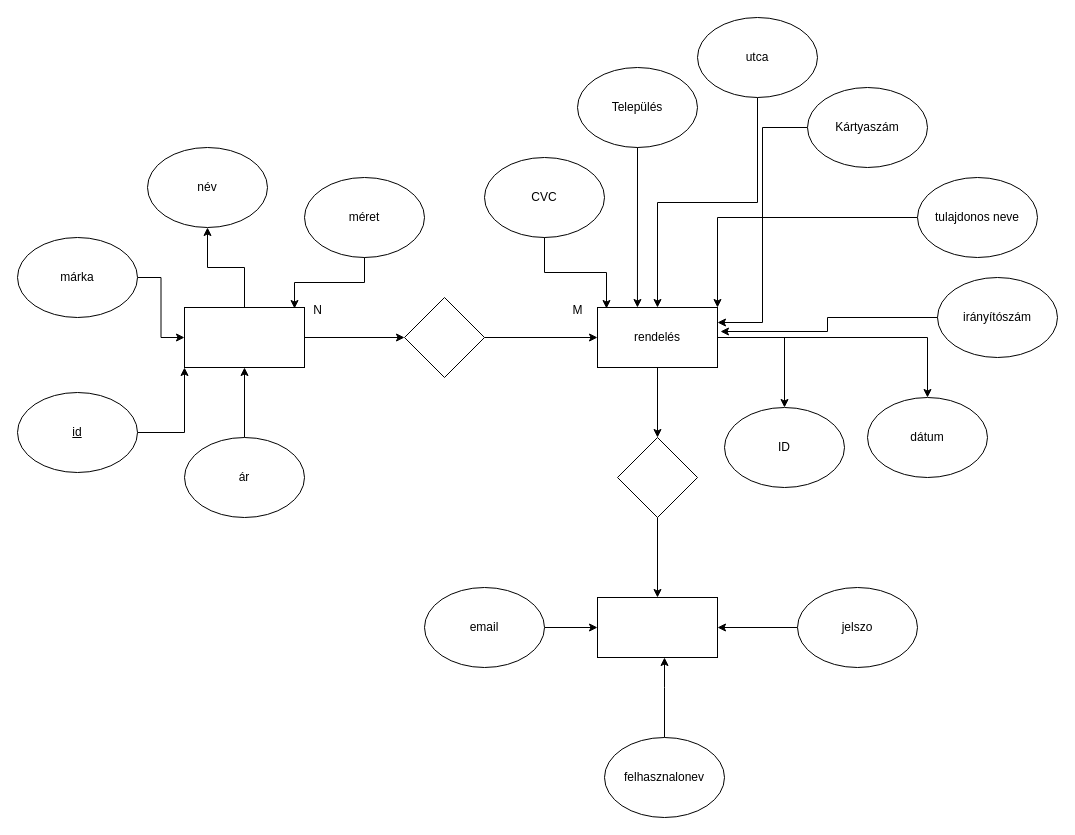
Some shapes in this 1075 by 835 pixel diagram are drawn without their labels. Each missing label, with the box of its shape:
cipő: (184, 306, 304, 368)
Felhasznaló: (596, 596, 718, 658)
fizetés: (616, 436, 698, 518)
tartalmazza: (404, 296, 484, 378)
